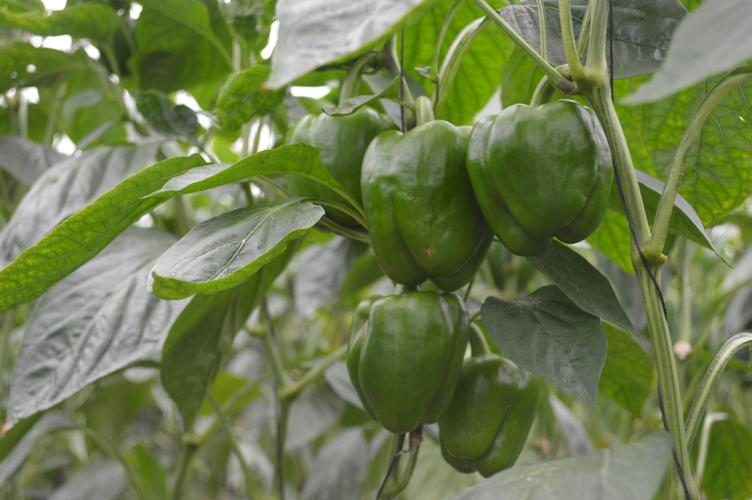BellPepper: (463, 94, 614, 267), (354, 128, 483, 294), (339, 295, 468, 453), (273, 99, 402, 223), (429, 346, 541, 487)
